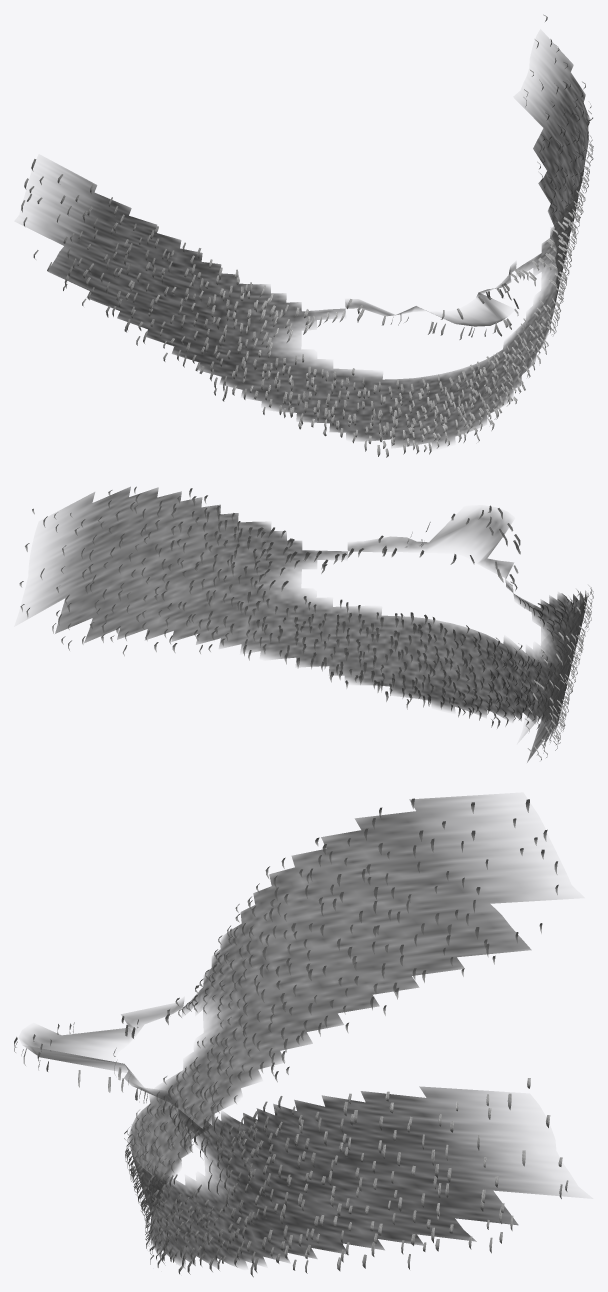
The model's file is unified_m_beard_short.glb.
3 renders of one model, top to bottom at view 1: azimuth 30°, elevation 25°; view 2: azimuth 150°, elevation 25°; view 3: azimuth 270°, elevation 25°, orthographic. The views are drawn at different scales.
Parts seen in each view (by area): view 1: Hair_beard_roots, Hair_facial_strands; view 2: Hair_beard_roots, Hair_facial_strands; view 3: Hair_beard_roots, Hair_facial_strands.
Part boxes in pixels (x1,y1,x2,y2): Hair_beard_roots: (25, 37, 589, 447); Hair_facial_strands: (21, 14, 593, 457); Hair_beard_roots: (26, 486, 588, 762); Hair_facial_strands: (19, 486, 593, 760); Hair_beard_roots: (21, 794, 571, 1267); Hair_facial_strands: (14, 798, 568, 1277).
Bounding box in the file's own units: 0.084 × 0.041 × 0.0668.
2 materials, 2 textured.
